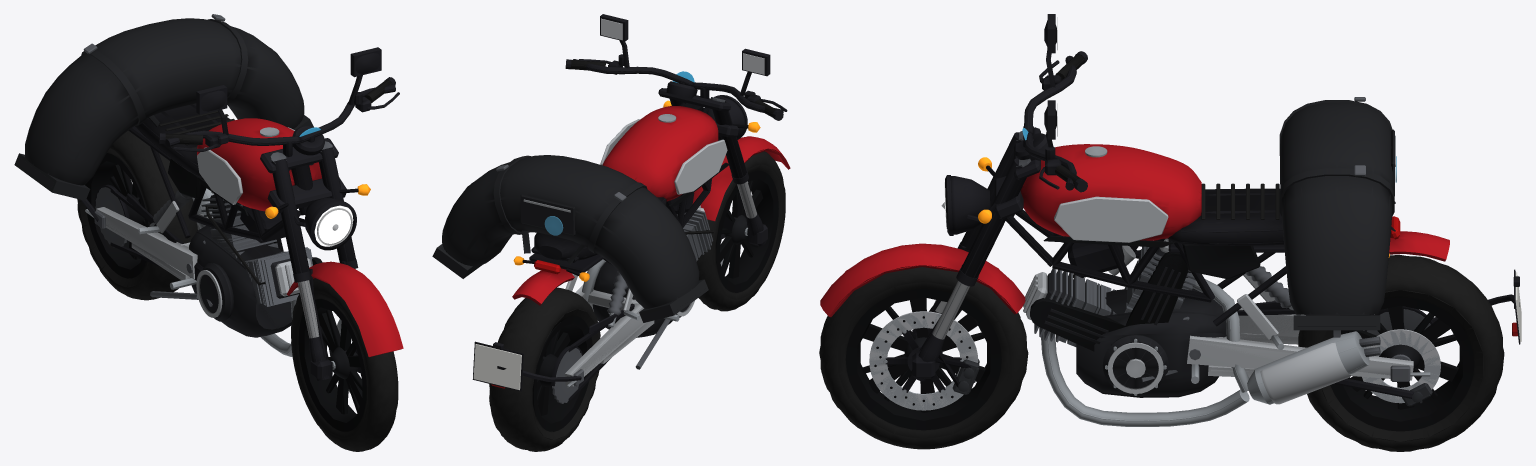
File: bike04_scrambler.glb
The picture shows the model from 3 angles, left to right: view 1: azimuth 30°, elevation 25°; view 2: azimuth 150°, elevation 25°; view 3: azimuth 270°, elevation 25°; orthographic projection. The views are drawn at different scales.
Visible parts, largest first — view 1: body (×2), luggage (×2), wheel_front (×2), wheel_rear (×2), handlebar (×2), fork_left (×2), headlight (×2), fork_right; view 2: body (×2), luggage (×2), wheel_rear (×2), wheel_front (×2), handlebar (×2), fork_left (×2), headlight; view 3: body (×2), luggage (×2), wheel_front (×2), wheel_rear (×2), disc_front (×2), fork_right (×2), handlebar (×2), disc_rear (×2), headlight, fork_left.
Part boxes in pixels (box(x1,y1,x2,y2)): body (×2): box(81, 103, 403, 368); luggage (×2): box(14, 14, 313, 200); wheel_front (×2): box(291, 278, 398, 451); wheel_rear (×2): box(77, 130, 197, 300); handlebar (×2): box(159, 47, 399, 156); fork_left (×2): box(270, 152, 332, 380); headlight (×2): box(304, 197, 356, 250); fork_right: box(319, 141, 358, 356); body (×2): box(472, 71, 790, 401); luggage (×2): box(432, 155, 708, 322); wheel_rear (×2): box(489, 287, 600, 451); wheel_front (×2): box(697, 151, 785, 311); handlebar (×2): box(565, 14, 787, 120); fork_left (×2): box(710, 95, 767, 246); headlight: box(704, 95, 747, 140); body (×2): box(820, 127, 1521, 426); luggage (×2): box(1279, 97, 1396, 337); wheel_front (×2): box(819, 267, 1028, 449); wheel_rear (×2): box(1298, 255, 1504, 451); disc_front (×2): box(869, 311, 978, 410); fork_right (×2): box(910, 158, 1030, 394); handlebar (×2): box(1023, 14, 1087, 192); disc_rear (×2): box(1362, 329, 1440, 403); headlight: box(941, 175, 990, 235); fork_left: box(912, 131, 1023, 335).
Size of the model in its own units: 1.06 by 1.28 by 2.13.
